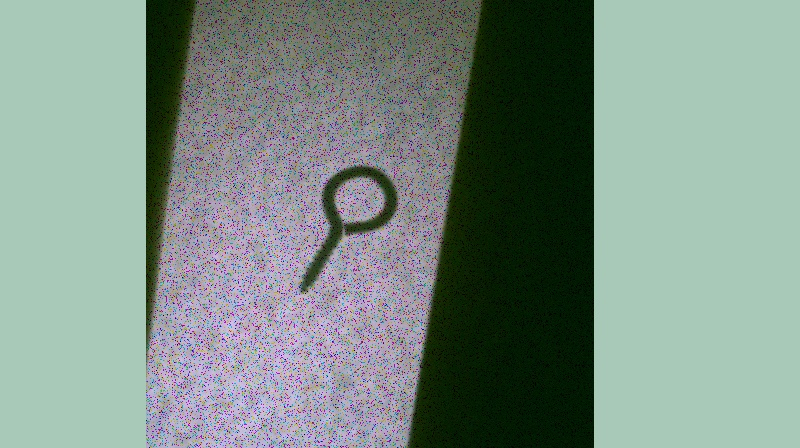O001: (295, 158, 404, 295)
